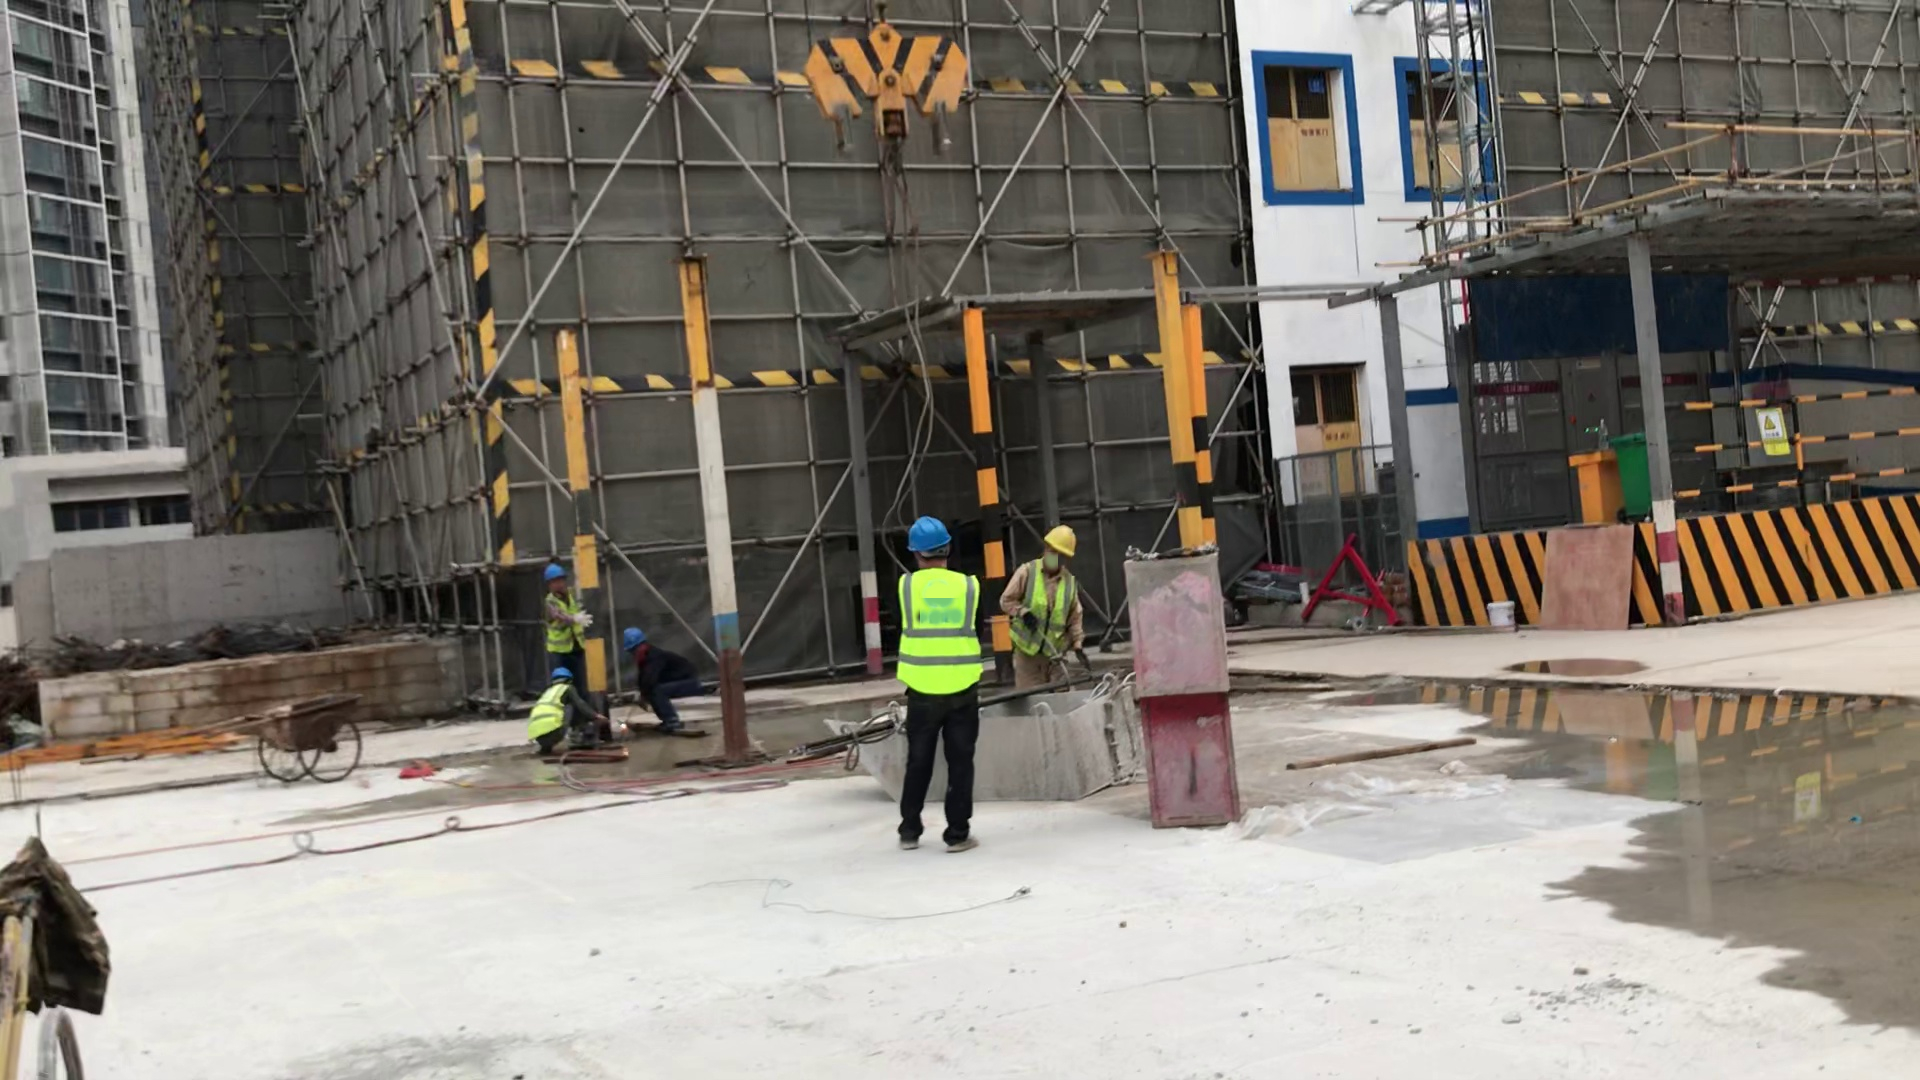helmet: (904, 506, 962, 565), (1042, 518, 1090, 570), (546, 657, 590, 689), (616, 620, 656, 651), (543, 558, 575, 591)
person: (871, 496, 1008, 874), (1001, 497, 1102, 685), (513, 657, 631, 783), (608, 606, 711, 751), (516, 537, 594, 664)
vest: (893, 562, 1001, 712), (1022, 561, 1084, 665), (534, 595, 597, 666), (517, 682, 582, 741)
